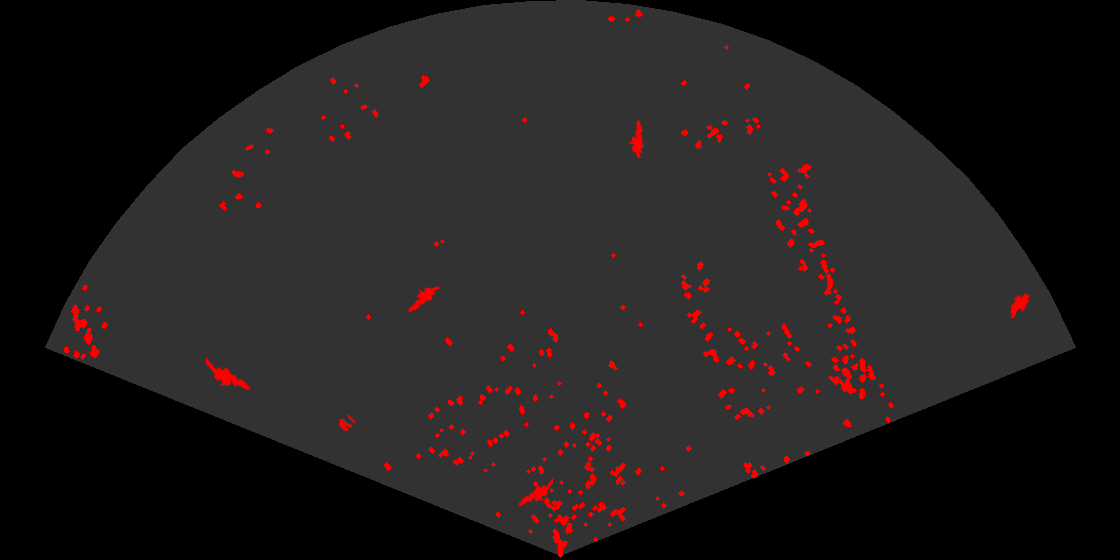AUV: (1008, 291, 1031, 320)
ball: (337, 413, 357, 433)
frogman: (206, 356, 253, 394), (516, 477, 553, 509), (401, 284, 439, 314), (627, 119, 645, 158)
